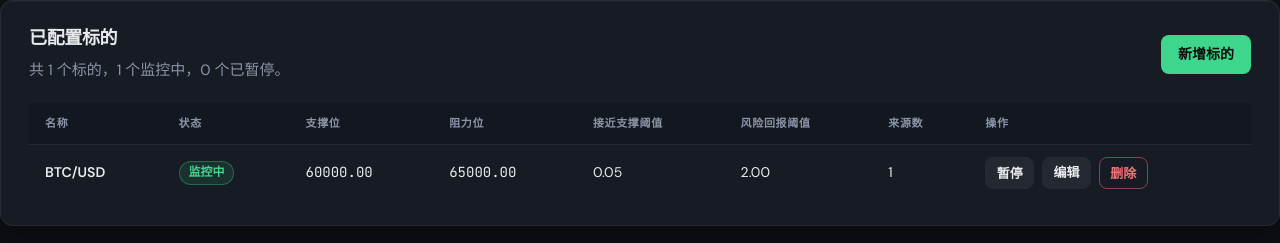
Test case: InstrumentList › pauses and resumes monitoring from the list
Expected: the text "BTC/USD" is shown, [29, 144, 163, 201]
Click the button "暂停".
click(1010, 173)  # box [985, 157, 1034, 189]
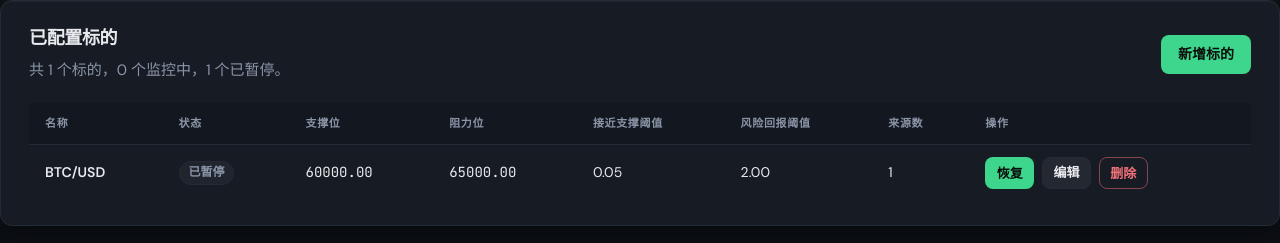
Expected: the text "已暂停" is shown, [179, 161, 234, 185]
Click the button "恢复".
click(1010, 173)  # box [985, 157, 1034, 189]
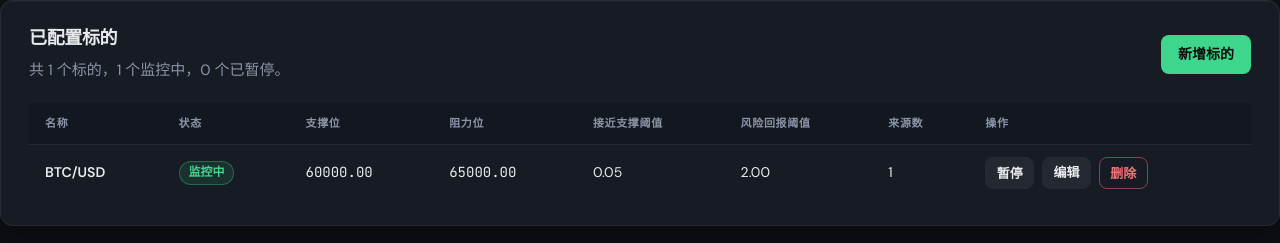
Expected: the text "监控中" is shown, [179, 161, 234, 185]
